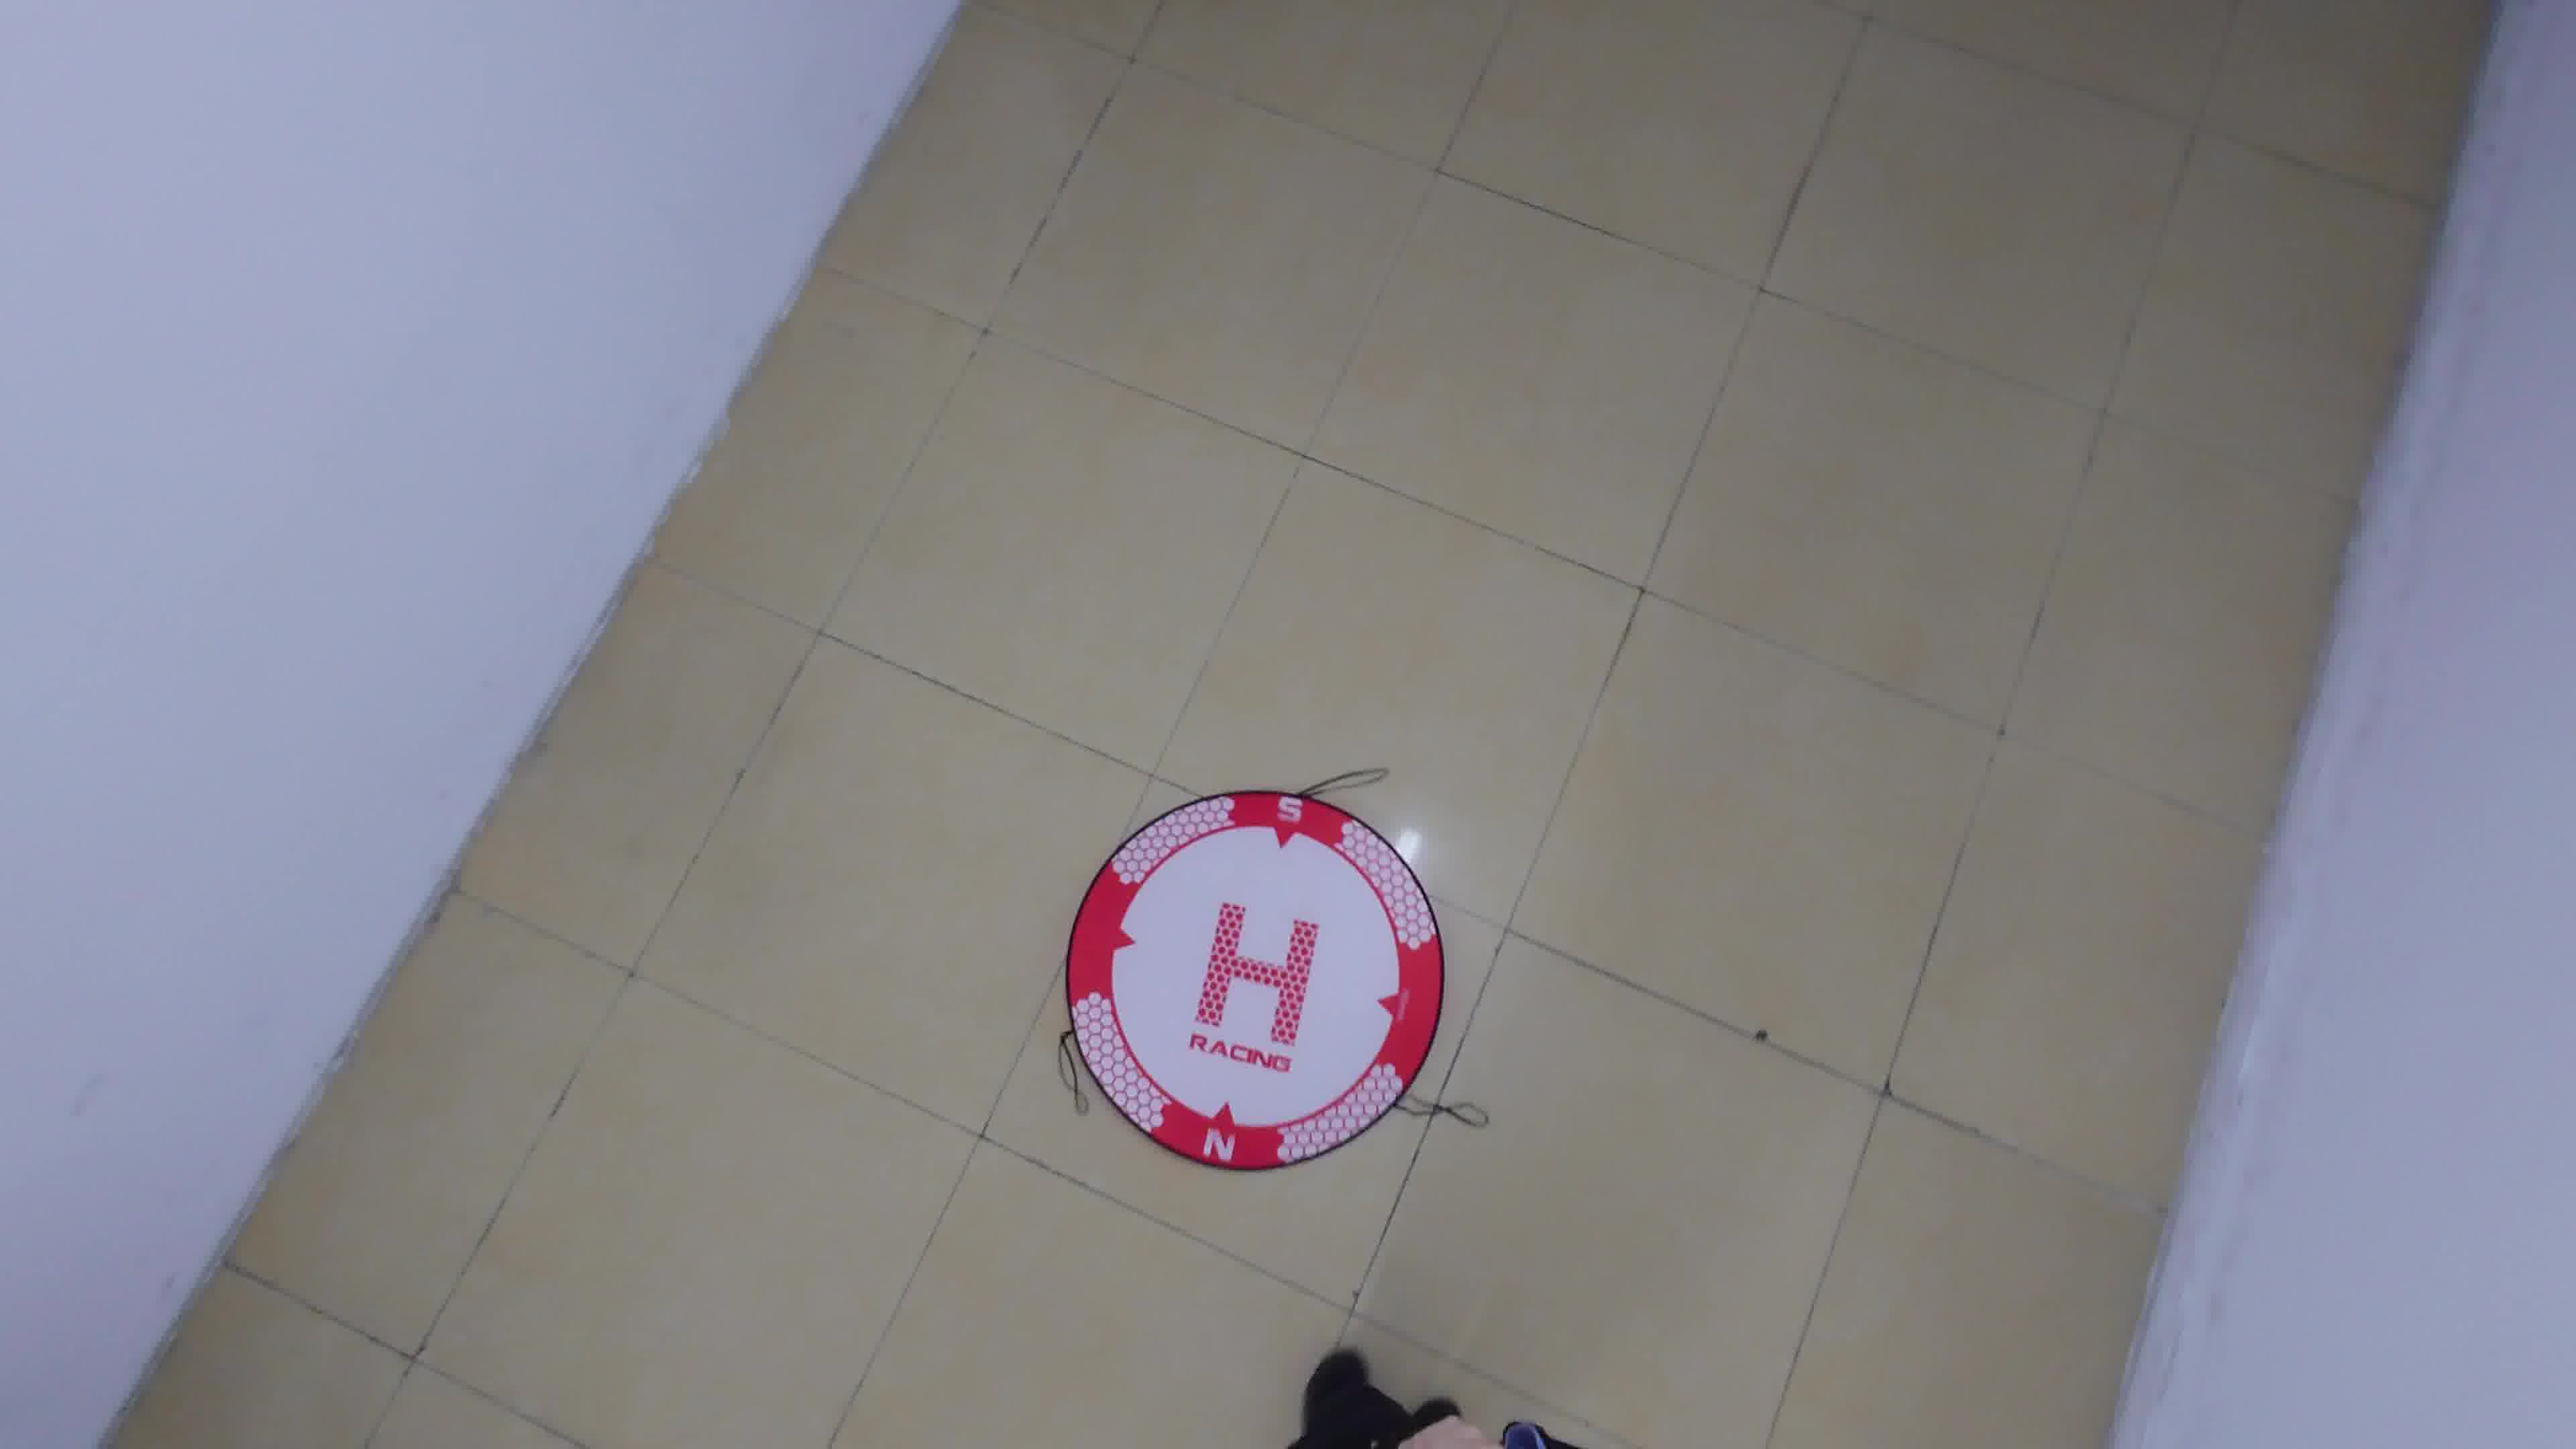H: (1192, 901, 1322, 1044)
